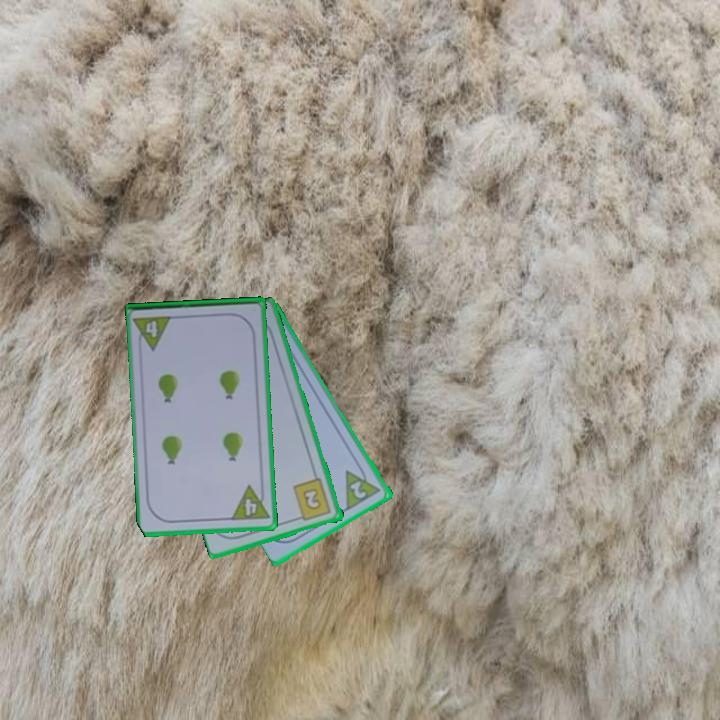2b: (290, 475, 334, 524)
2p: (342, 460, 384, 513)
4p: (228, 481, 272, 524), (131, 312, 175, 353)
